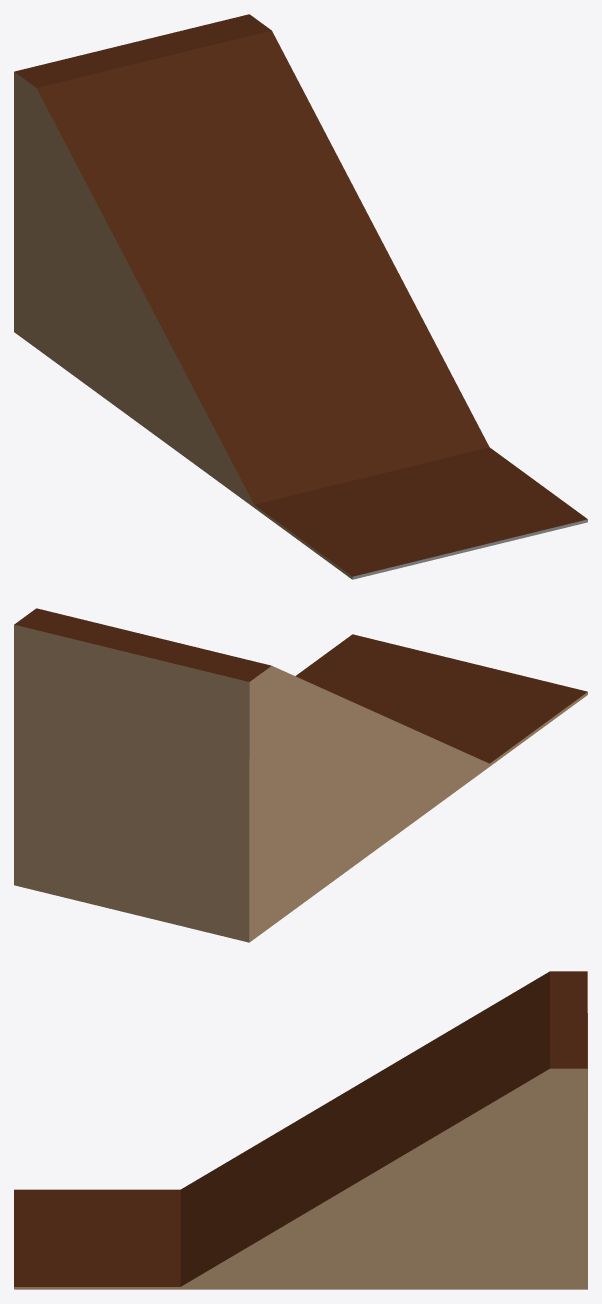
The model's file is Ramp_01.fbx.
3 views of the same model, one above another, from view 1: azimuth 30°, elevation 25°; view 2: azimuth 150°, elevation 25°; view 3: azimuth 270°, elevation 25° (orthographic). The views are drawn at different scales.
Visible parts, largest first — view 1: Ramp_01; view 2: Ramp_01; view 3: Ramp_01.
Part boxes in pixels (x1,y1,x2,y2): Ramp_01: [14, 14, 587, 579]; Ramp_01: [14, 608, 587, 942]; Ramp_01: [14, 971, 587, 1289].
Bounding box in the file's own units: 15.92 × 16.84 × 39.66.
